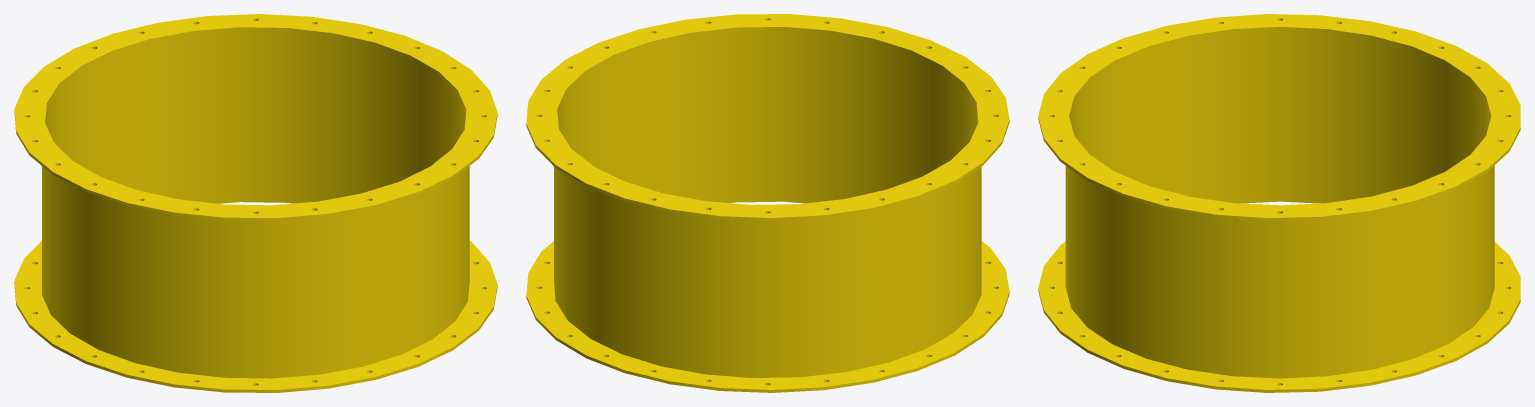
The model's file is Straight-35.fbx.
The picture shows the model from 3 angles, left to right: view 1: azimuth 30°, elevation 25°; view 2: azimuth 150°, elevation 25°; view 3: azimuth 270°, elevation 25°; orthographic projection.
Parts seen in each view (by area): view 1: lige-35-obj; view 2: lige-35-obj; view 3: lige-35-obj.
Boxes of the visible parts, bbox=[...] form: lige-35-obj: bbox=[14, 14, 497, 392]; lige-35-obj: bbox=[526, 14, 1009, 392]; lige-35-obj: bbox=[1038, 14, 1520, 392].
Size of the model in its own units: 87.87 by 35.08 by 87.74.
